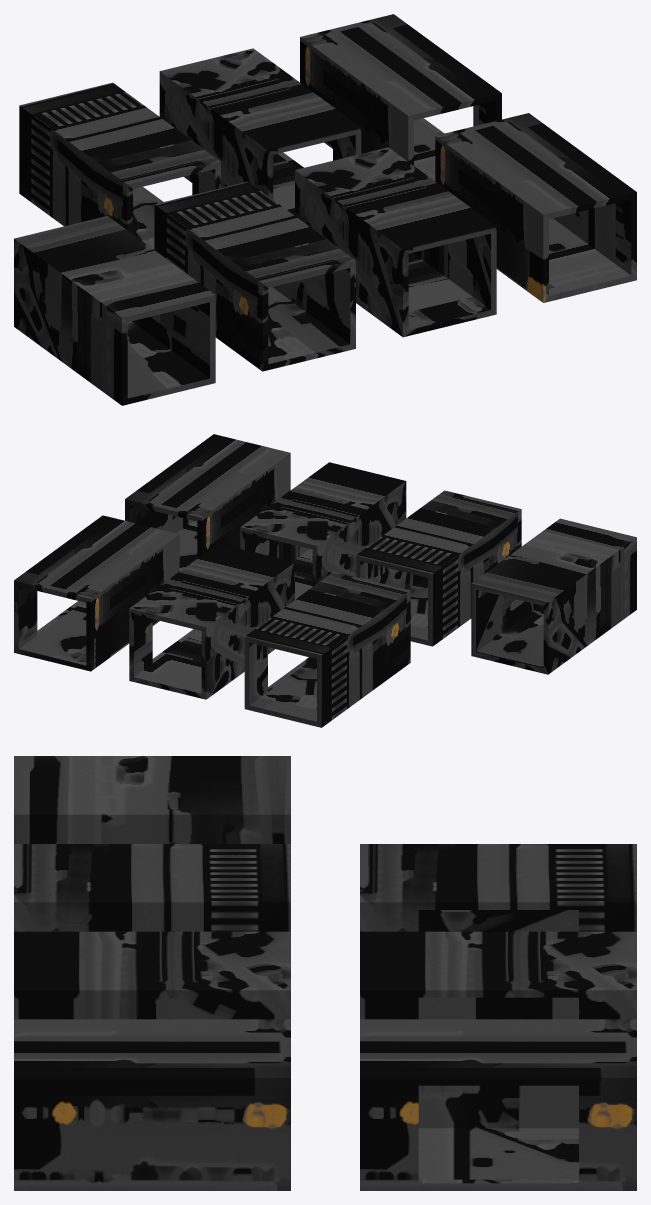
Rendered from All_enterable_containers.fbx.
3 renders of one model, top to bottom at view 1: azimuth 30°, elevation 25°; view 2: azimuth 150°, elevation 25°; view 3: azimuth 270°, elevation 25°, orthographic. The views are drawn at different scales.
Visible parts, largest first — view 1: Container_Black, Container_Yellow, Container_Red, Container_Blue, Container_Blue_Cutoff, Container_Yellow_Cutoff, Container_Red_Cutoff; view 2: Container_Black, Container_Blue_Cutoff, Container_Yellow_Cutoff, Container_Red_Cutoff, Container_Blue, Container_Yellow, Container_Red; view 3: Container_Yellow, Container_Yellow_Cutoff, Container_Red, Container_Red_Cutoff, Container_Blue, Container_Black, Container_Blue_Cutoff.
Part boxes in pixels (x1,y1,x2,y2): Container_Black: (14,216,215,405); Container_Yellow: (435,113,636,302); Container_Red: (295,147,496,337); Container_Blue: (154,181,355,371); Container_Blue_Cutoff: (19,82,220,249); Container_Yellow_Cutoff: (300,14,501,180); Container_Red_Cutoff: (159,48,361,215); Container_Black: (471,518,636,674); Container_Blue_Cutoff: (244,571,410,727); Container_Yellow_Cutoff: (14,515,179,671); Container_Red_Cutoff: (129,543,294,699); Container_Blue: (356,490,521,646); Container_Yellow: (125,434,290,571); Container_Red: (240,462,406,599); Container_Yellow: (14,1019,290,1190); Container_Yellow_Cutoff: (360,1019,636,1190); Container_Red: (14,931,290,1019); Container_Red_Cutoff: (360,931,636,1019); Container_Blue: (14,844,290,931); Container_Black: (14,756,290,843); Container_Blue_Cutoff: (360,844,636,931).
Size of the model in its own units: 1100 by 180 by 900.
